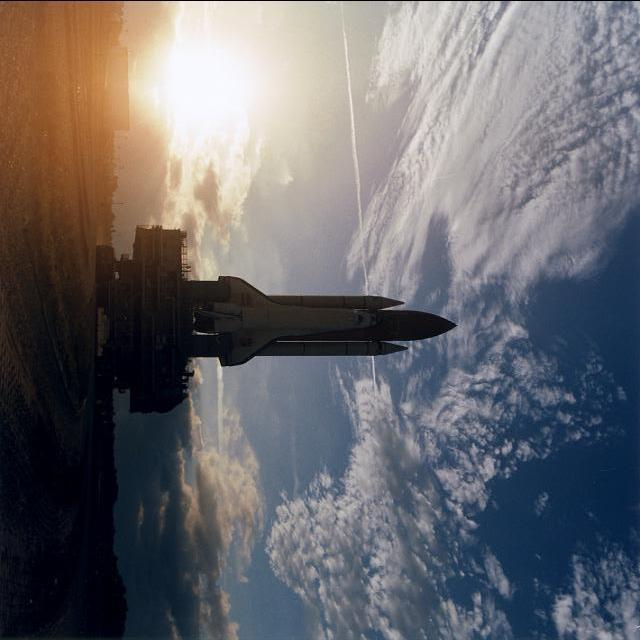missile: (180, 267, 458, 380)
